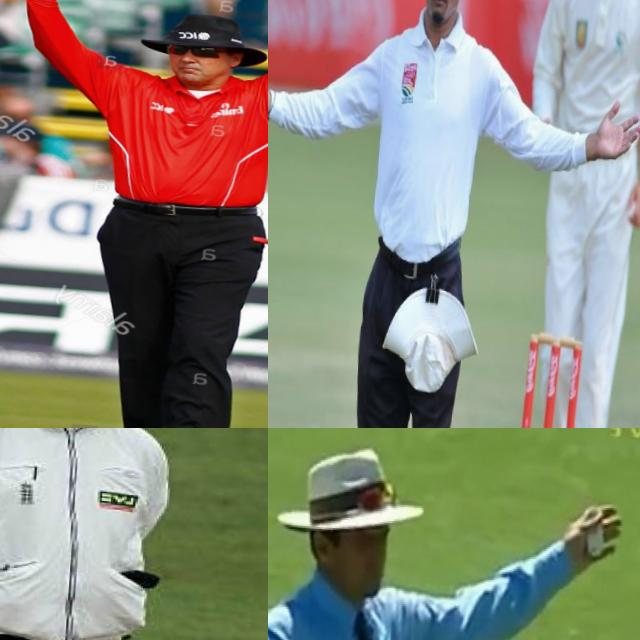No_Action: (0, 428, 200, 640)
Six: (0, 0, 268, 428)
Wide: (268, 0, 640, 263), (268, 428, 626, 640)
